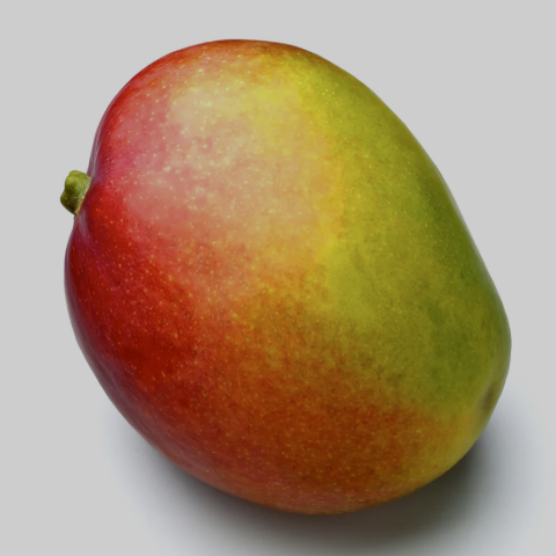mango: (21, 2, 551, 536)
